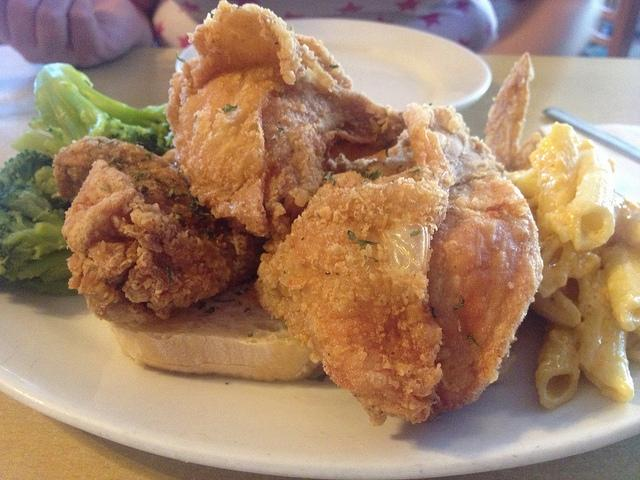broccoli: (26, 62, 174, 158), (2, 176, 78, 298), (1, 149, 54, 197)
